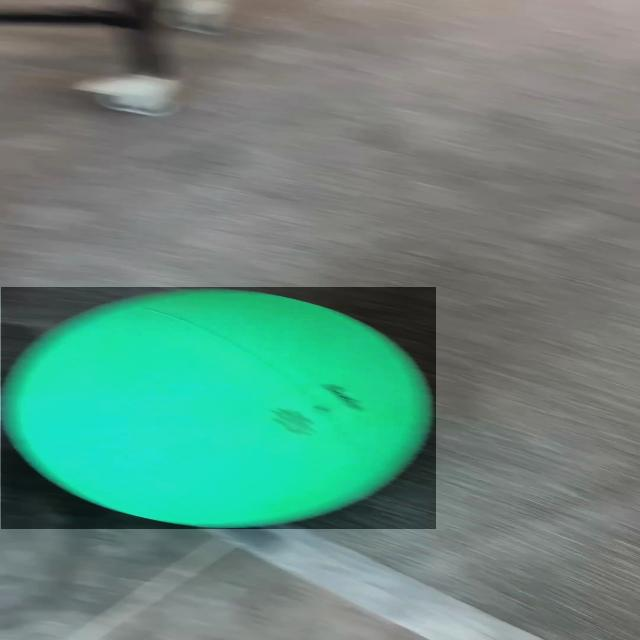Algae: (1, 287, 436, 529)
